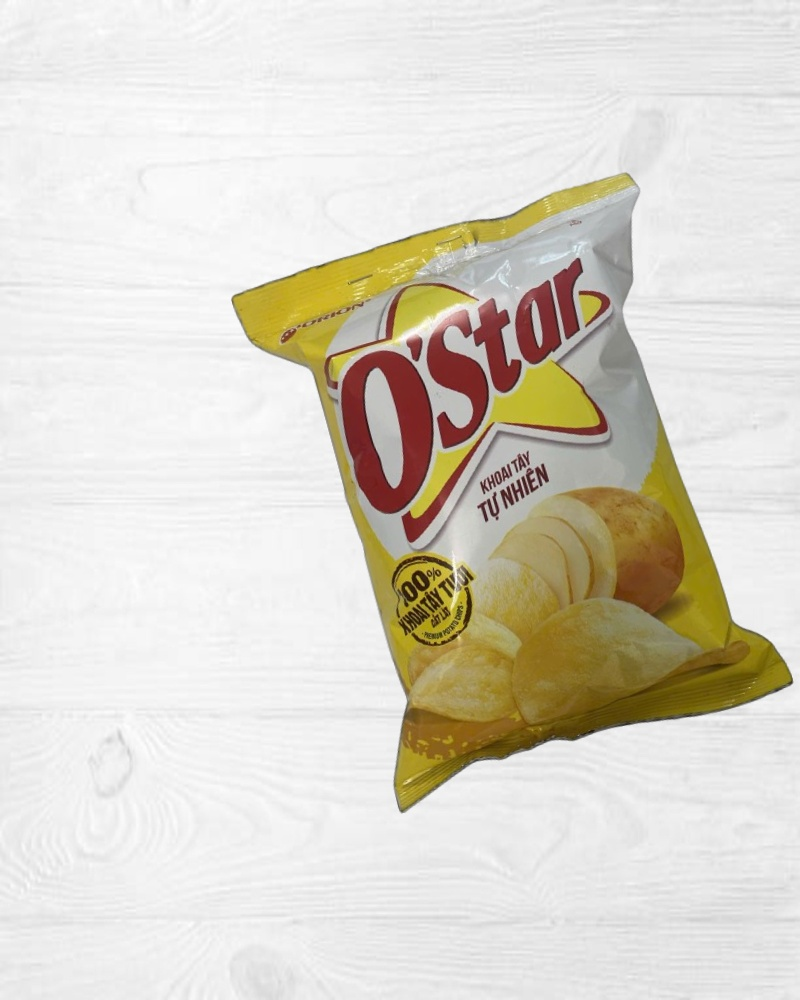O'star: (228, 165, 800, 821)
